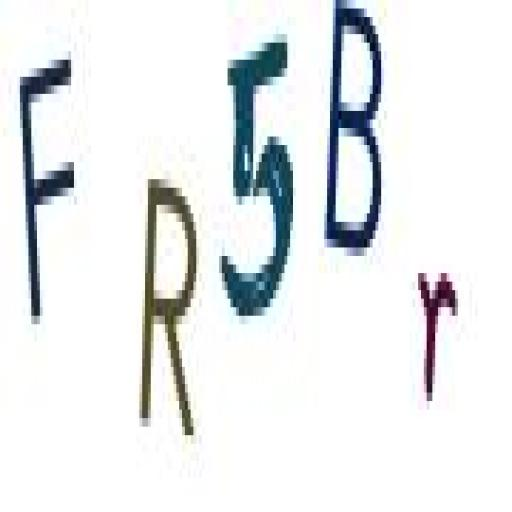5: (216, 20, 297, 338)
B: (324, 0, 393, 271)
F: (14, 44, 84, 355)
R: (135, 166, 201, 461)
r: (412, 256, 460, 415)
